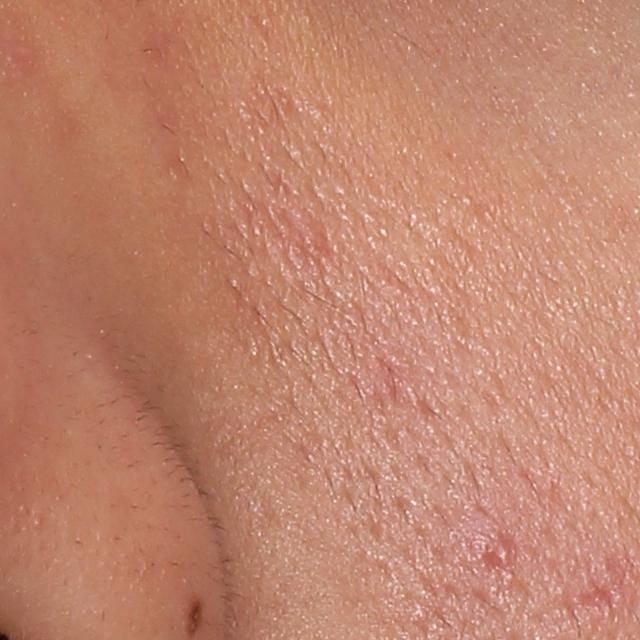papule: (480, 532, 517, 566)
